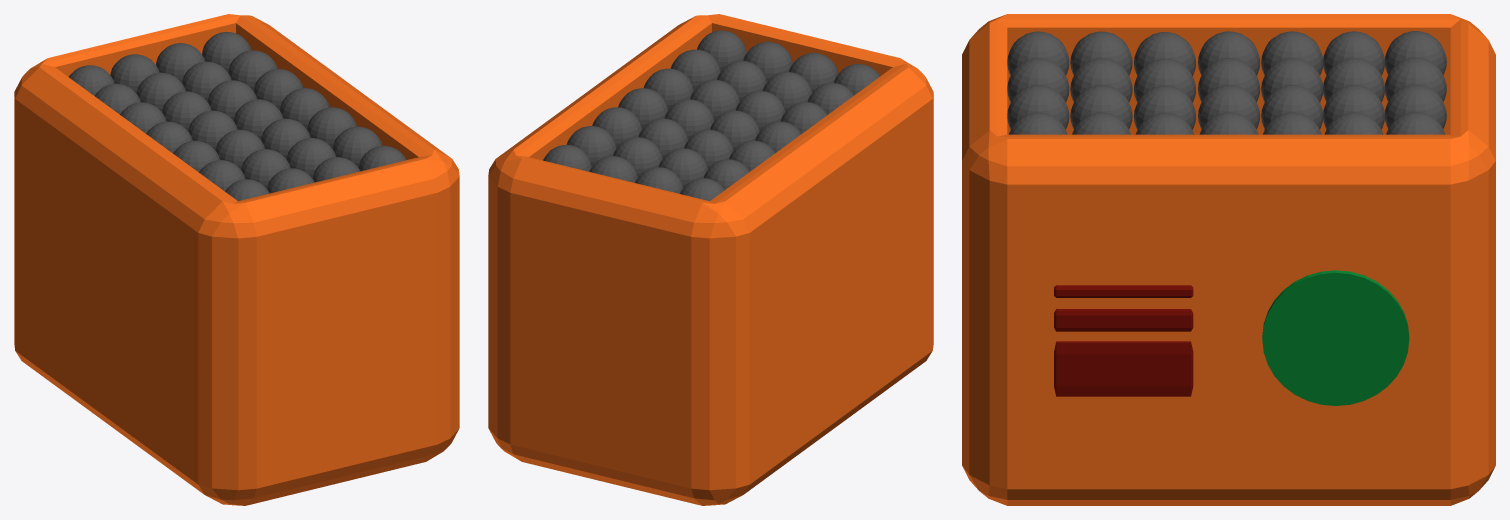
Rendered from BulletPack.fbx.
The picture shows the model from 3 angles, left to right: view 1: azimuth 30°, elevation 25°; view 2: azimuth 150°, elevation 25°; view 3: azimuth 270°, elevation 25°; orthographic projection. The views are drawn at different scales.
Parts seen in each view (by area): view 1: BulletPack1, Ball6, Ball1, Ball2, Ball6.001, Ball4, Ball1.001, Ball6.002, Ball4.001, Ball2.001, Ball1.002, Ball5 (+17 smaller); view 2: BulletPack1, Ball1, Ball4, Ball6, Ball7, Ball1.001, Ball4.001, Ball1.002, Ball6.001, Ball7.001, Ball2, Ball5 (+17 smaller); view 3: BulletPack1, Decorate, 立方体.001, 立方体.002, 立方体, Ball7.001, Ball2.001, Ball4.001, Ball5.001, Ball6.001, Ball1.001, Ball3.001 (+21 smaller).
Part boxes in pixels (bbox=[...]): BulletPack1: bbox=[14, 14, 459, 505]; Ball6: bbox=[280, 88, 329, 129]; Ball1: bbox=[307, 107, 356, 148]; Ball2: bbox=[253, 69, 303, 110]; Ball6.001: bbox=[233, 99, 283, 139]; Ball4: bbox=[332, 126, 382, 168]; Ball1.001: bbox=[261, 118, 310, 159]; Ball6.002: bbox=[188, 110, 237, 150]; Ball4.001: bbox=[286, 138, 336, 178]; Ball2.001: bbox=[207, 80, 256, 120]; Ball1.002: bbox=[215, 129, 264, 169]; Ball5: bbox=[228, 50, 277, 90]; BulletPack1: bbox=[488, 14, 933, 505]; Ball1: bbox=[643, 68, 693, 110]; Ball4: bbox=[670, 49, 720, 90]; Ball6: bbox=[618, 88, 667, 129]; Ball7: bbox=[697, 30, 746, 71]; Ball1.001: bbox=[690, 80, 739, 120]; Ball4.001: bbox=[717, 60, 766, 101]; Ball1.002: bbox=[735, 91, 785, 131]; Ball6.001: bbox=[664, 99, 713, 139]; Ball7.001: bbox=[743, 41, 792, 82]; Ball2: bbox=[592, 107, 641, 148]; Ball5: bbox=[566, 126, 616, 166]; BulletPack1: bbox=[962, 14, 1495, 505]; Decorate: bbox=[1262, 270, 1409, 405]; 立方体.001: bbox=[1054, 341, 1193, 396]; 立方体.002: bbox=[1054, 309, 1193, 331]; 立方体: bbox=[1054, 285, 1193, 297]; Ball7.001: bbox=[1007, 85, 1069, 129]; Ball2.001: bbox=[1261, 85, 1323, 129]; Ball4.001: bbox=[1070, 85, 1132, 129]; Ball5.001: bbox=[1323, 85, 1384, 129]; Ball6.001: bbox=[1198, 85, 1260, 129]; Ball1.001: bbox=[1134, 85, 1195, 129]; Ball3.001: bbox=[1385, 84, 1446, 128].
Bounding box in the file's own units: 726 × 811 × 1048.
